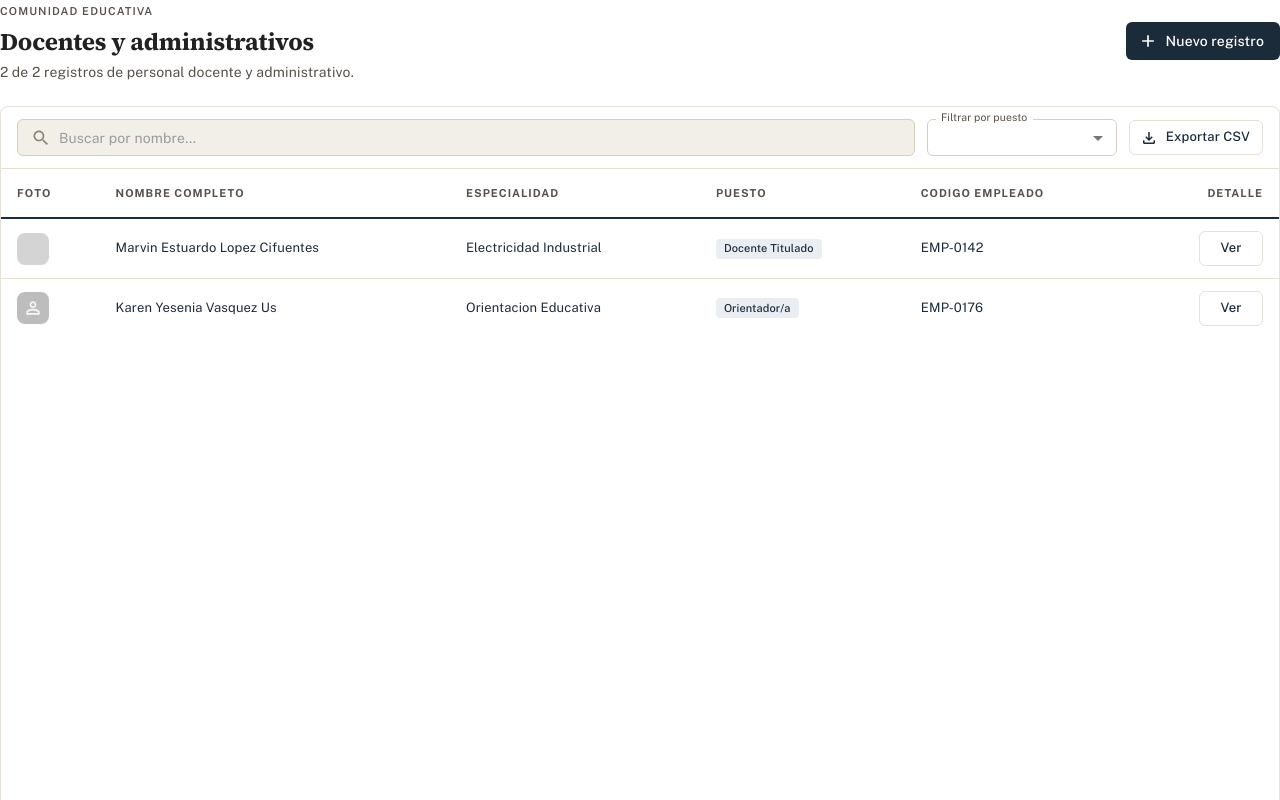
Scenario: DocentesPage › opens the detail panel for a row
This screenshot has width=1280, height=800.
Check: the text "Marvin Estuardo Lopez Cifuentes" is shown, box x1=100 y1=219 x2=450 y2=279
What coordinates should you click on to do the following:
click the button with aria-label "Ver detalle"
I would click on:
 (1231, 249)
Its box is x1=1199 y1=231 x2=1263 y2=266.
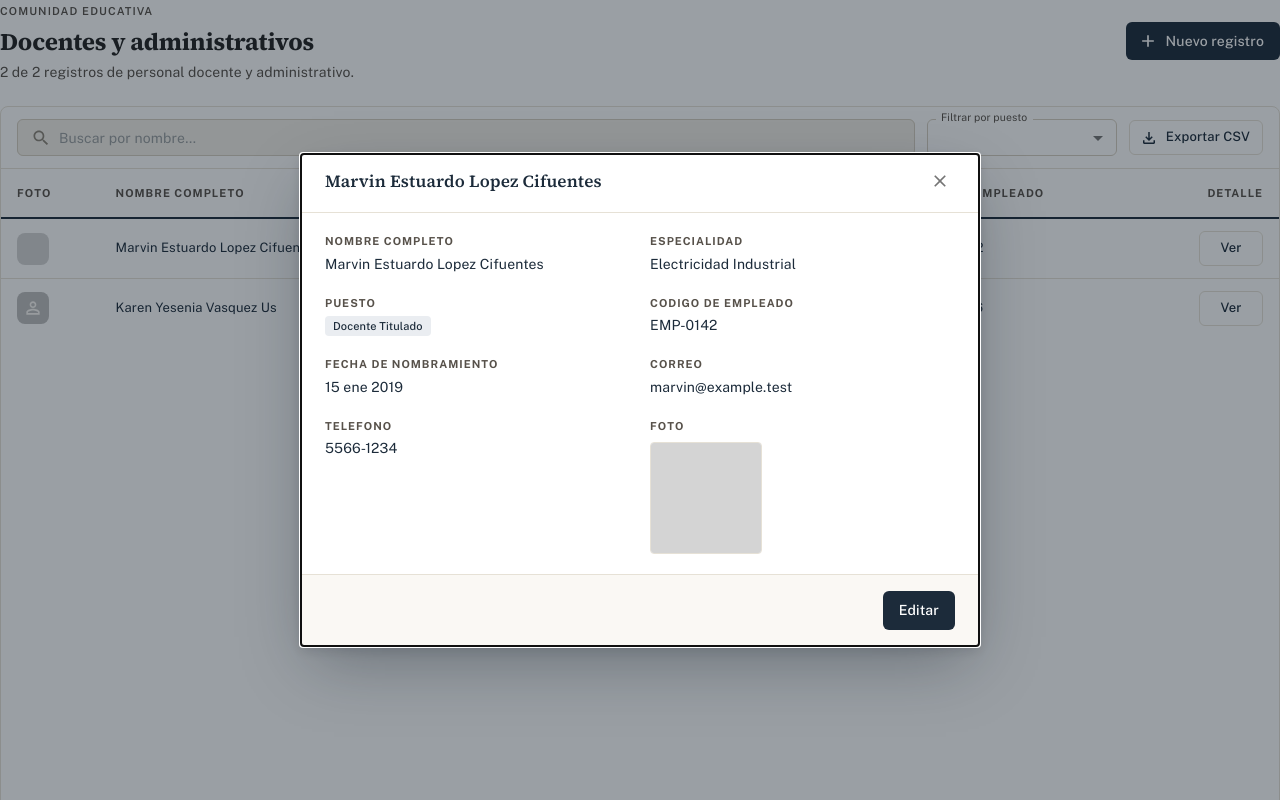
Check: the heading "Marvin Estuardo Lopez Cifuentes" is shown, box x1=325 y1=170 x2=602 y2=193
Check: the text "marvin@example.test" is shown, box x1=650 y1=379 x2=792 y2=395
